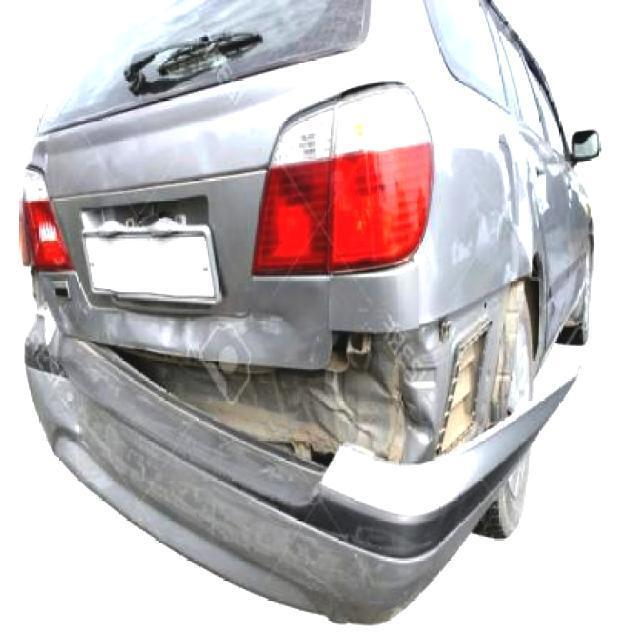minor: (48, 135, 228, 195)
moderate: (24, 162, 584, 627), (80, 308, 283, 366)
